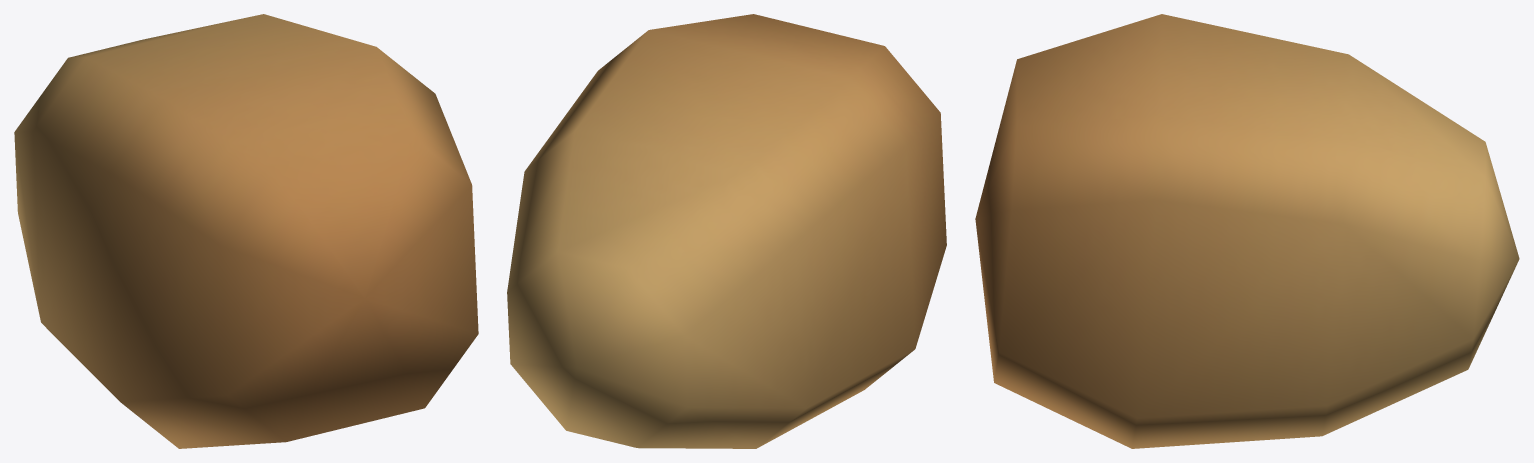
The model's file is egg_brown.fbx.
The picture shows the model from 3 angles, left to right: view 1: azimuth 30°, elevation 25°; view 2: azimuth 150°, elevation 25°; view 3: azimuth 270°, elevation 25°; orthographic projection. The views are drawn at different scales.
Visible parts, largest first — view 1: egg_brown; view 2: egg_brown; view 3: egg_brown.
Boxes of the visible parts, x1,y1,x2,y2 form: egg_brown: (14, 14, 478, 448); egg_brown: (507, 14, 946, 448); egg_brown: (975, 14, 1519, 448).
Bounding box in the file's own units: 15 × 14.95 × 22.14.
